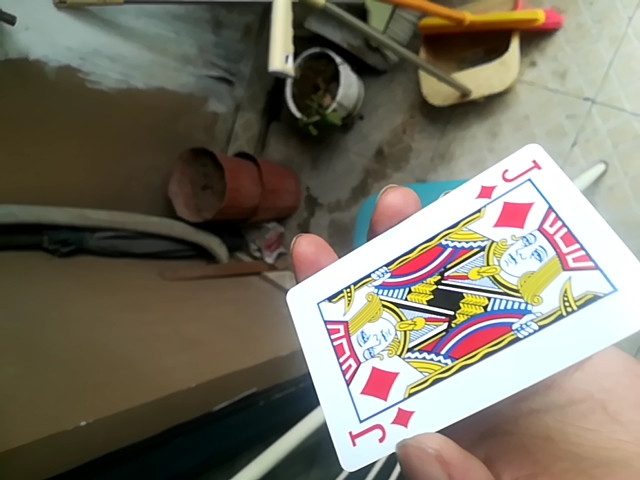fk j: (284, 142, 639, 476)
